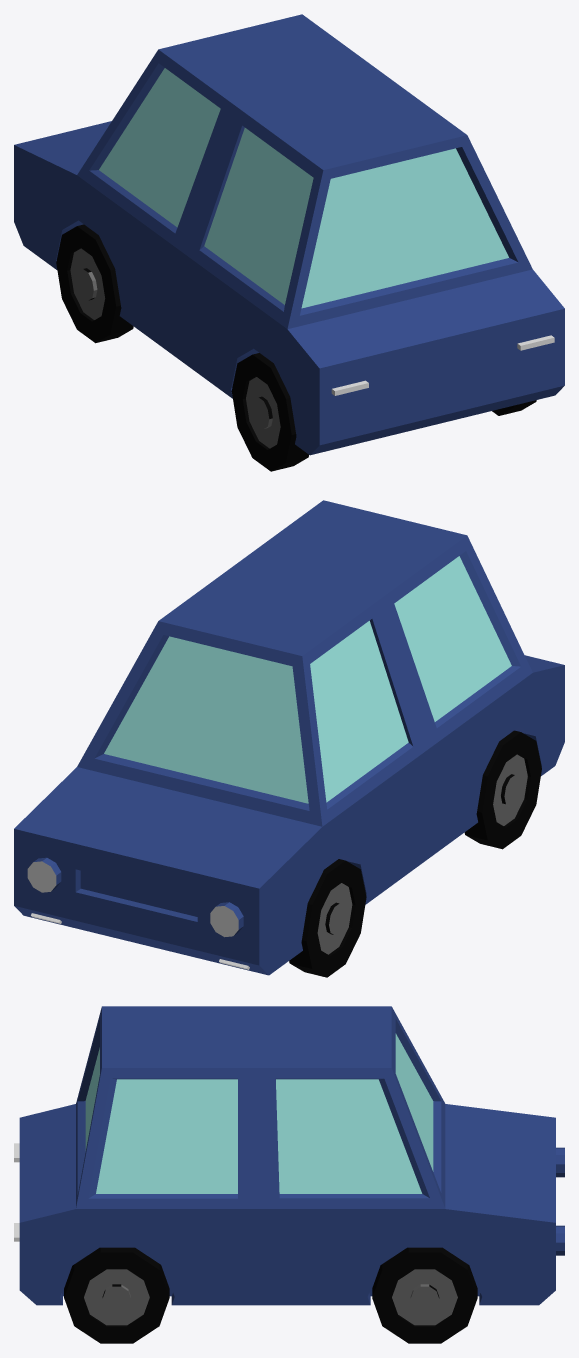
Rendered from Car00.fbx.
3 views of the same model, one above another, from view 1: azimuth 30°, elevation 25°; view 2: azimuth 150°, elevation 25°; view 3: azimuth 270°, elevation 25° (orthographic). The views are drawn at different scales.
Visible parts, largest first — view 1: Carosserie, Roue; view 2: Carosserie, Roue; view 3: Carosserie, Roue.
Part boxes in pixels (x1,y1,x2,y2): Carosserie: [14, 14, 564, 455]; Roue: [56, 224, 536, 471]; Carosserie: [14, 500, 564, 975]; Roue: [289, 730, 541, 977]; Carosserie: [14, 1006, 564, 1305]; Roue: [64, 1247, 477, 1343].
Size of the model in its own units: 206 by 224 by 443.
